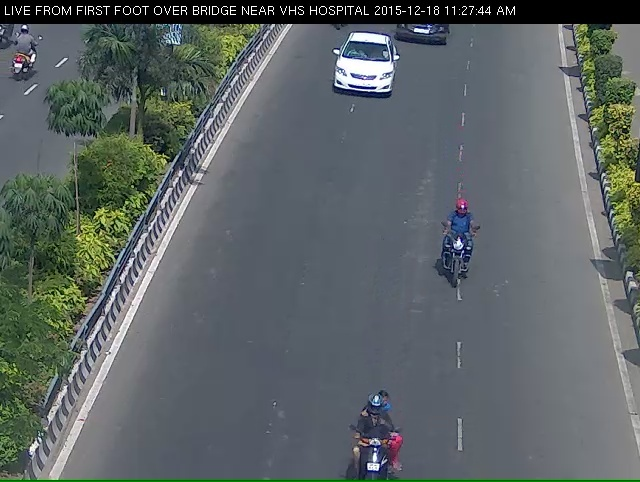Car: (325, 36, 400, 112)
Person: (436, 210, 481, 303)
